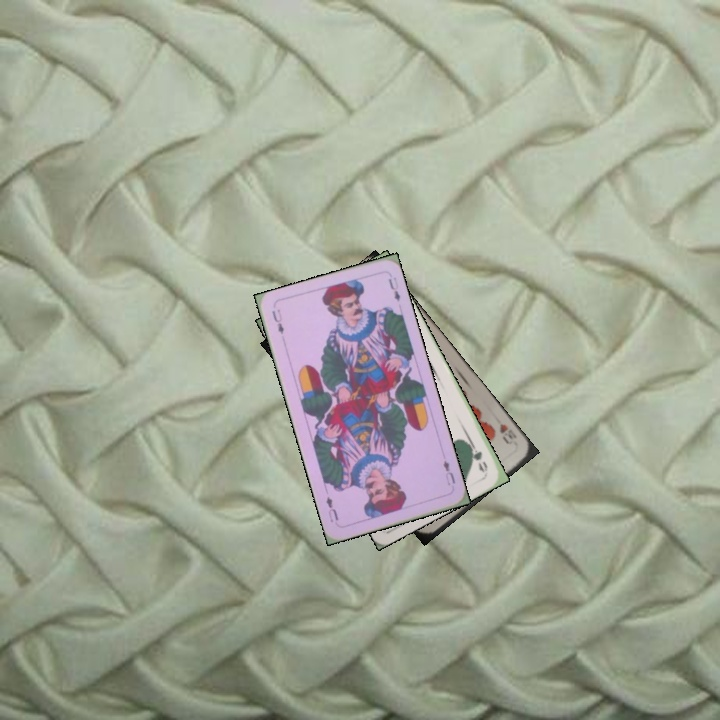EU: (439, 456, 458, 488), (268, 305, 286, 336)
GO: (462, 436, 490, 475)
H10: (495, 419, 521, 450)
